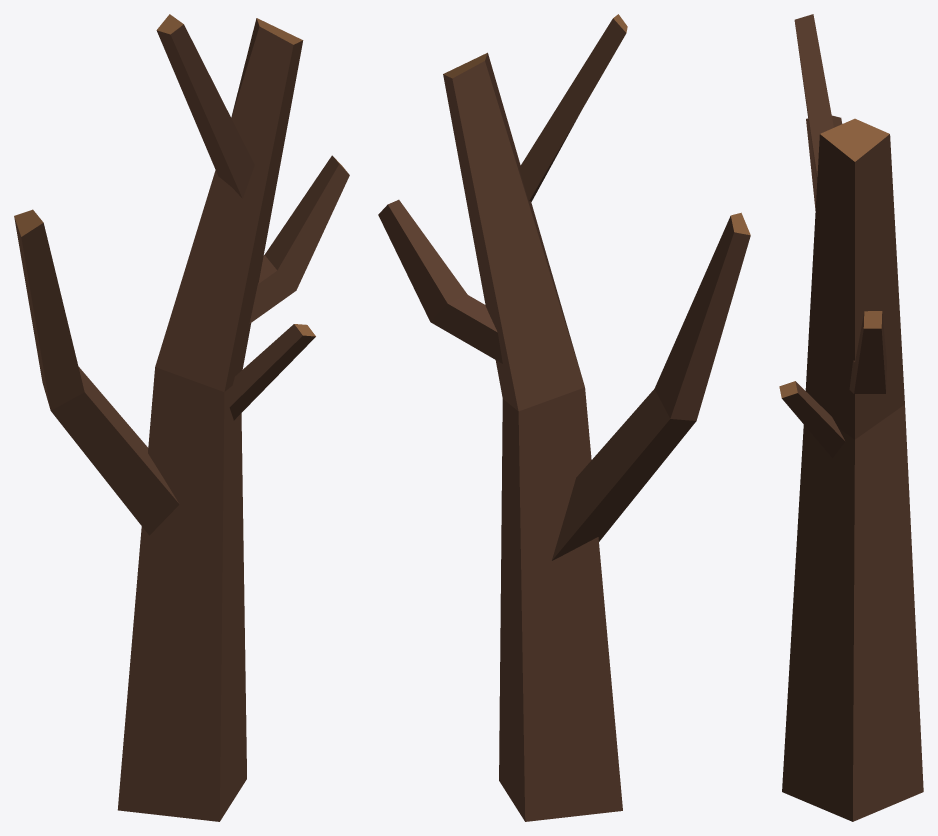
File: TB_D_Env_DeadTreeB_B.FBX
3 views of the same model, side by side, from view 1: azimuth 30°, elevation 25°; view 2: azimuth 150°, elevation 25°; view 3: azimuth 270°, elevation 25° (orthographic). The views are drawn at different scales.
Visible parts, largest first — view 1: TB_D_Env_DeadTreeB_B; view 2: TB_D_Env_DeadTreeB_B; view 3: TB_D_Env_DeadTreeB_B.
Part boxes in pixels (bbox=[...]): TB_D_Env_DeadTreeB_B: bbox=[14, 14, 349, 821]; TB_D_Env_DeadTreeB_B: bbox=[378, 14, 750, 821]; TB_D_Env_DeadTreeB_B: bbox=[779, 14, 923, 821].
Bounding box in the file's own units: 2.93 × 6.34 × 1.09.
